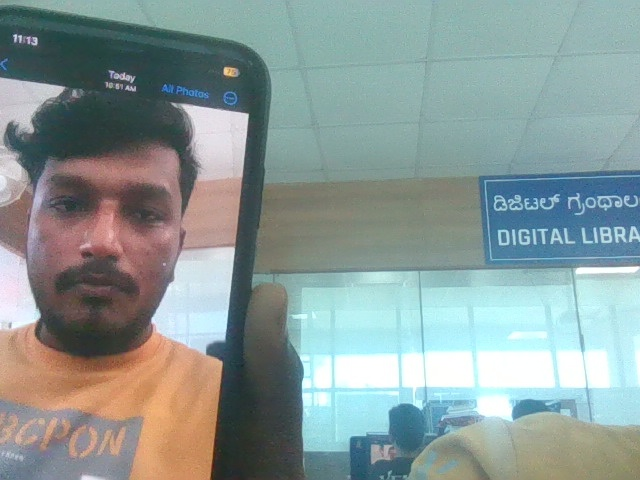fake: (2, 63, 210, 358)
